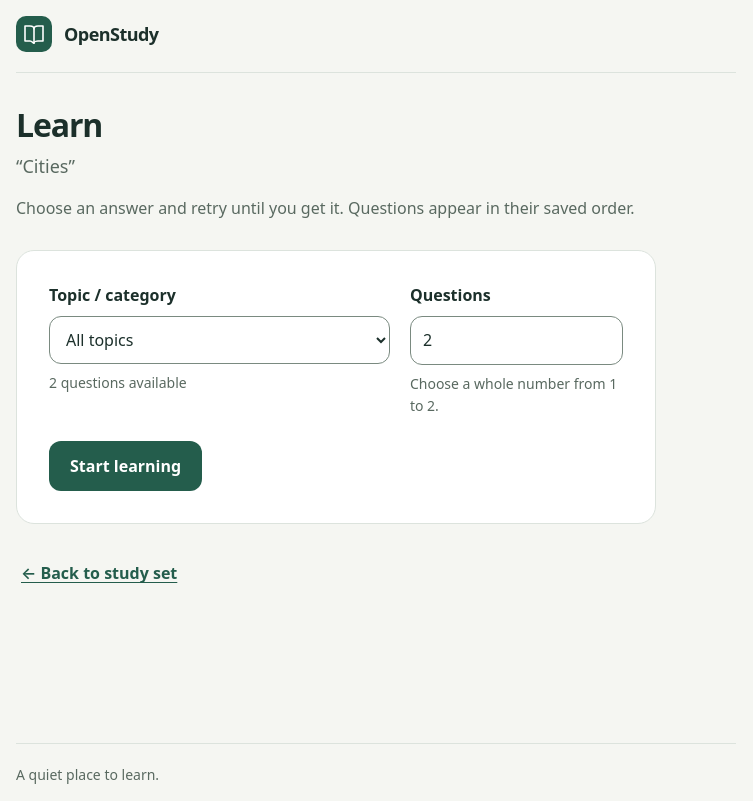
Test: Learn route › keeps correct feedback visible after a double-click in a 1-question session
Replace the text in the number field labelled "Questions" with "1" at (516,340), box [410,316,623,365]
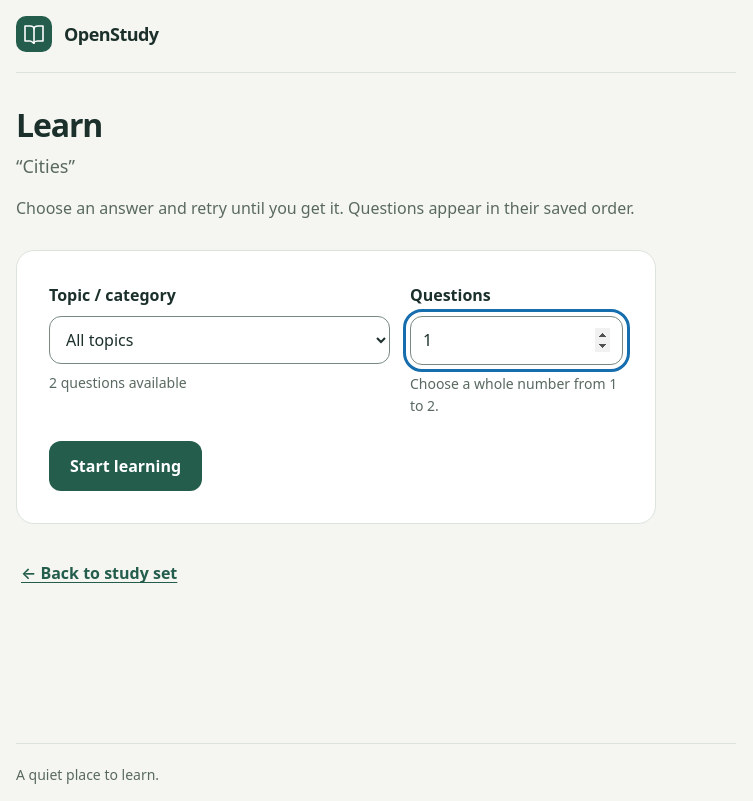
Click the button "Start learning" at (126,466), box [49,441,202,491]
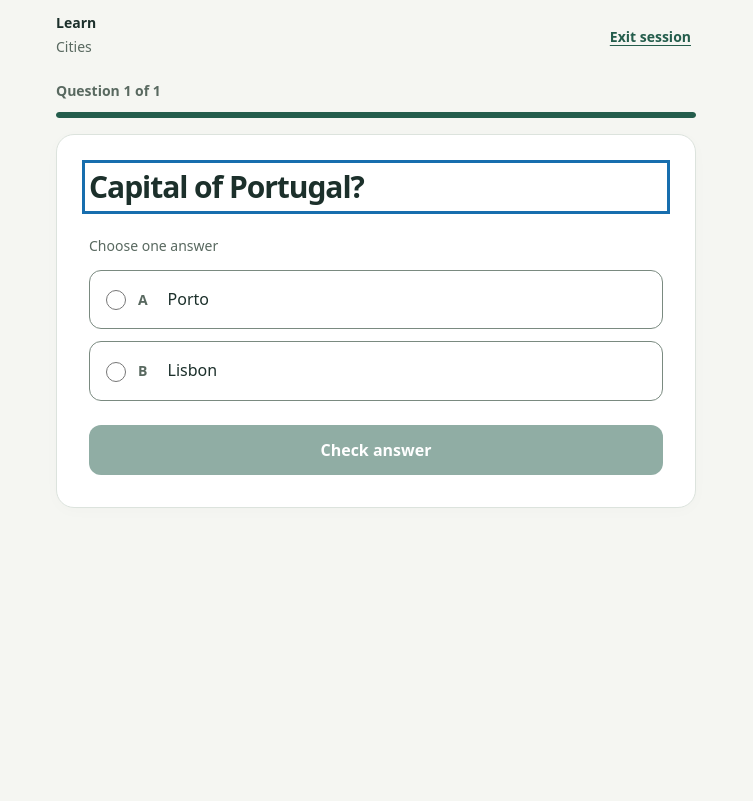
Click the radio button labelled "Lisbon" at (116,372), box [106,362,126,382]
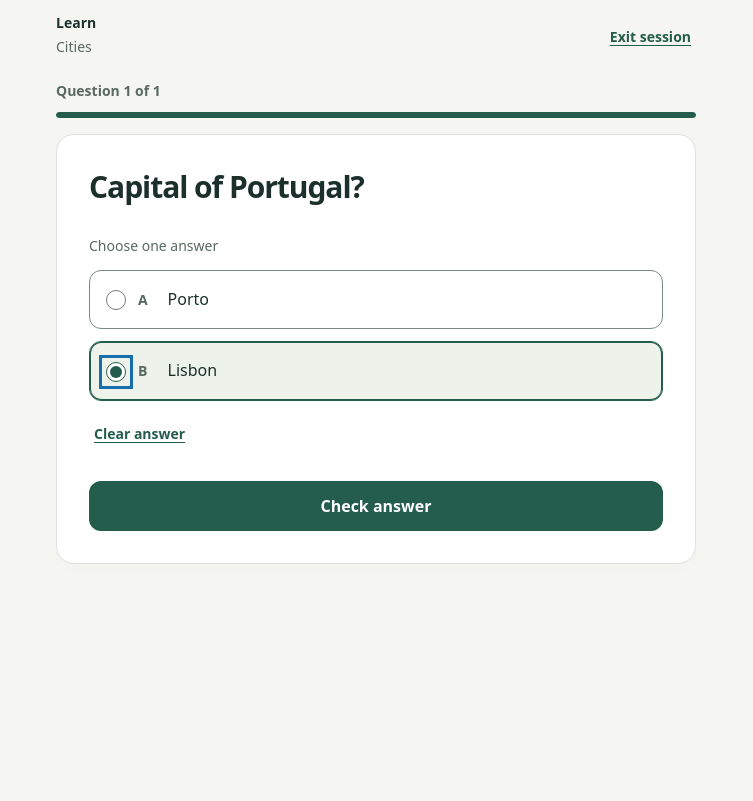
Double-click the button "Check answer" at (376,506), box [89,481,663,531]
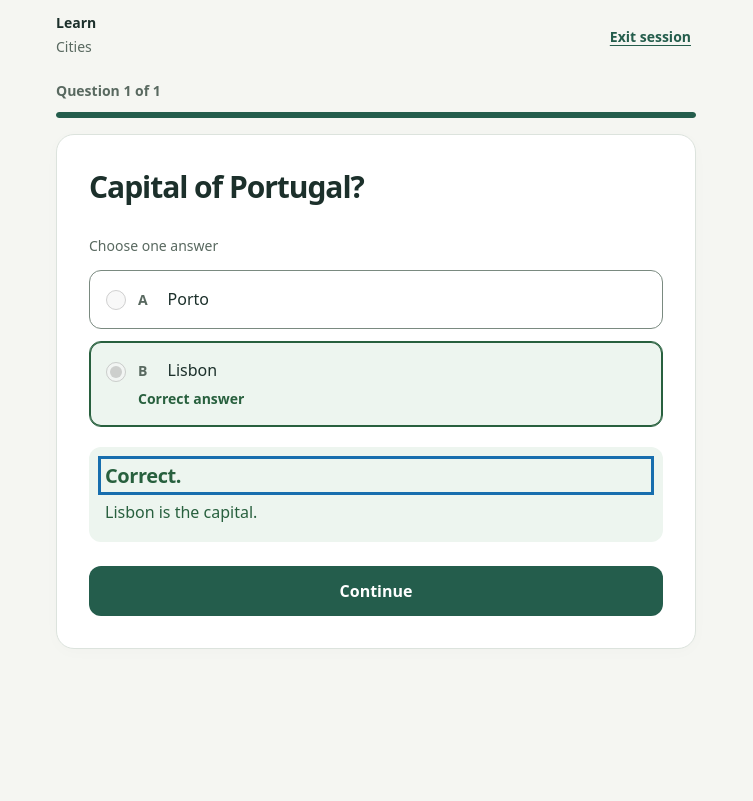
Expected: the heading "Capital of Portugal?" is shown, [89,166,364,207]
Expected: the heading "Correct." is shown, [105,462,181,490]
Expected: the text "Lisbon is the capital." is shown, [105,502,257,524]
Click the button "Continue" at (376,591), box [89,566,663,616]
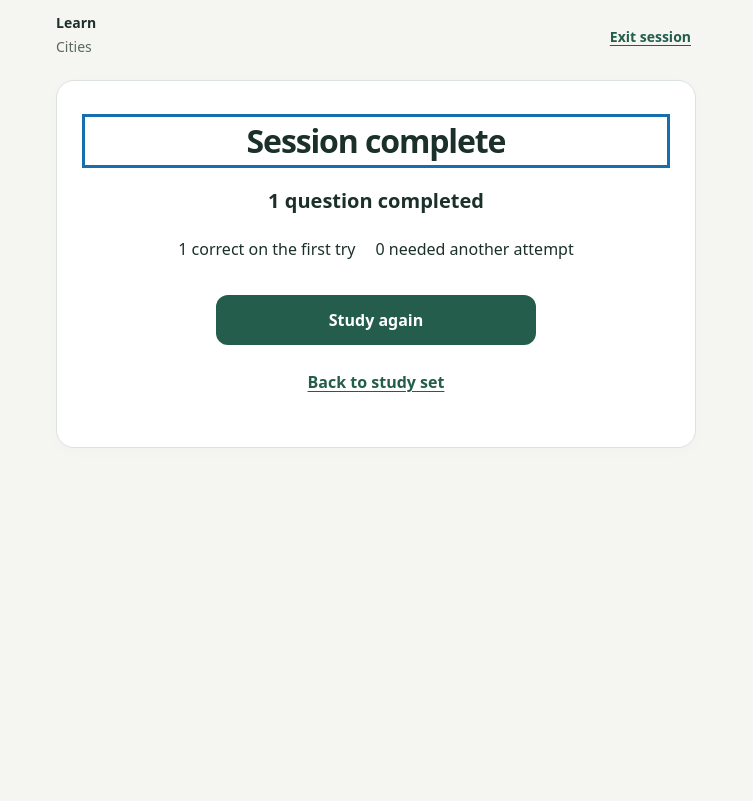
Expected: the heading "Session complete" is shown, [247,119,505,162]
